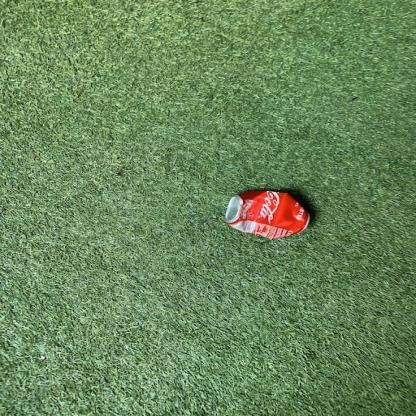trash: (220, 188, 315, 244)
